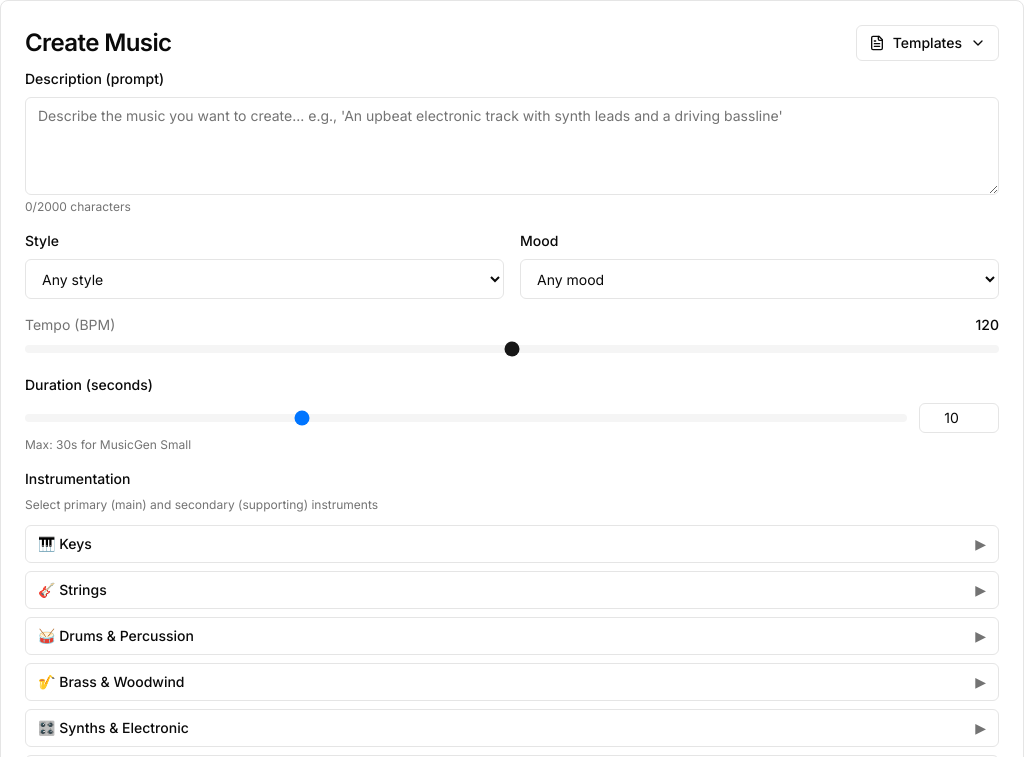
Test: PromptEditor › shows character count
This screenshot has width=1024, height=757.
Check: the text "0/2000 characters" is shown, box x1=25 y1=199 x2=131 y2=214
Type some text
Type "Hello world" into the text box at (512, 146), box x1=25 y1=97 x2=999 y2=195
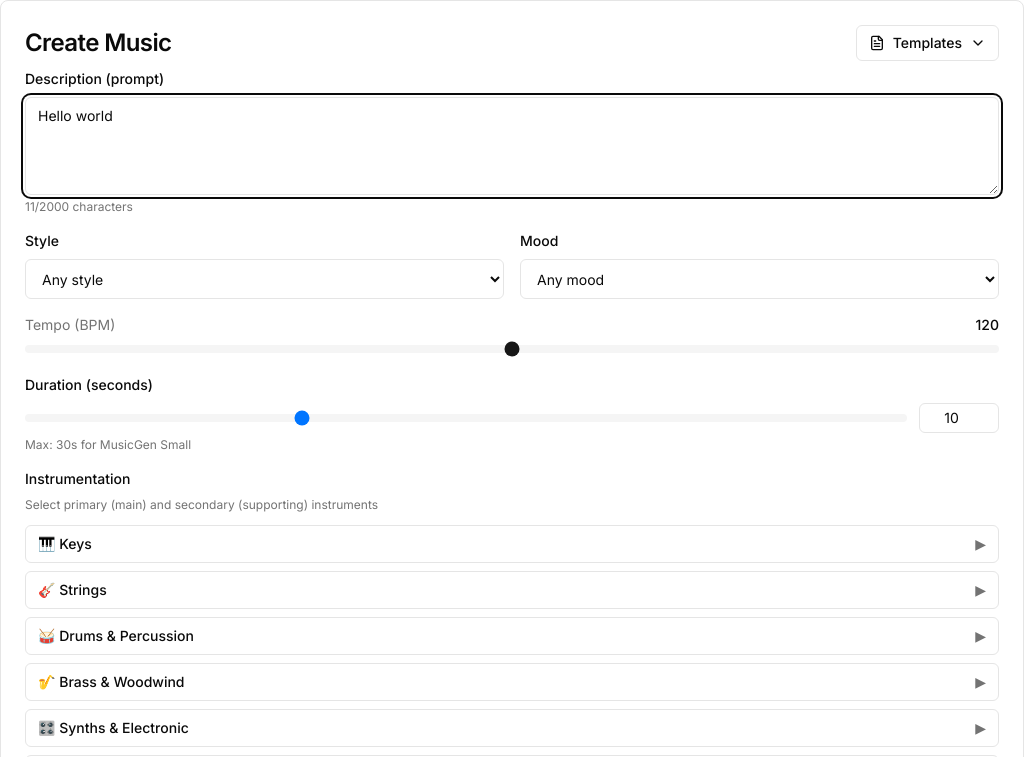
Check: the text "11/2000 characters" is shown, box x1=25 y1=199 x2=133 y2=214
